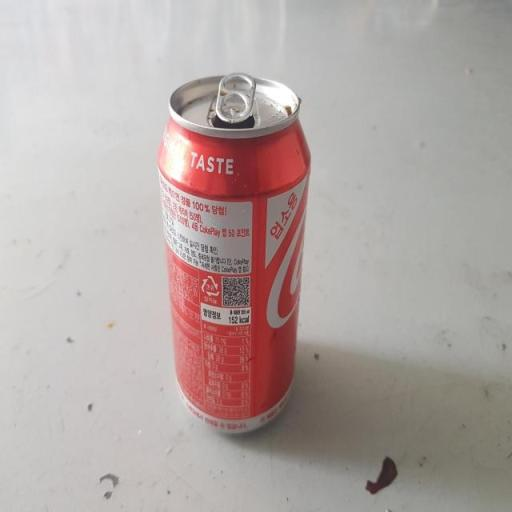metal: (136, 50, 328, 452)
